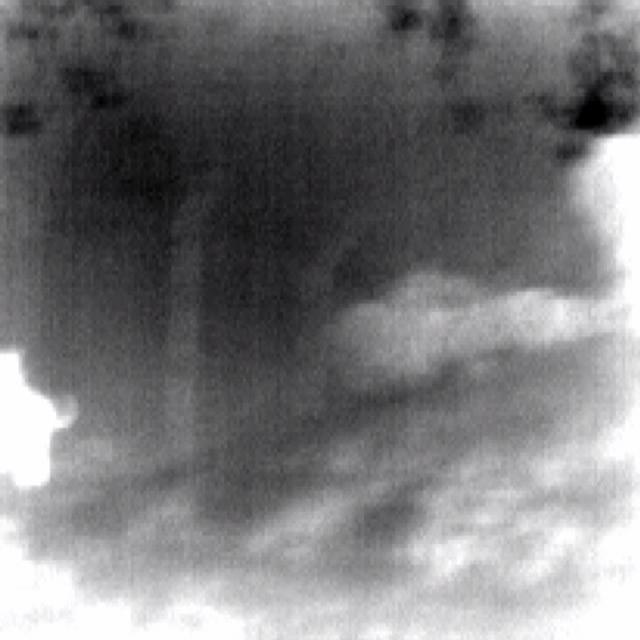cheetah: (0, 353, 77, 488)
